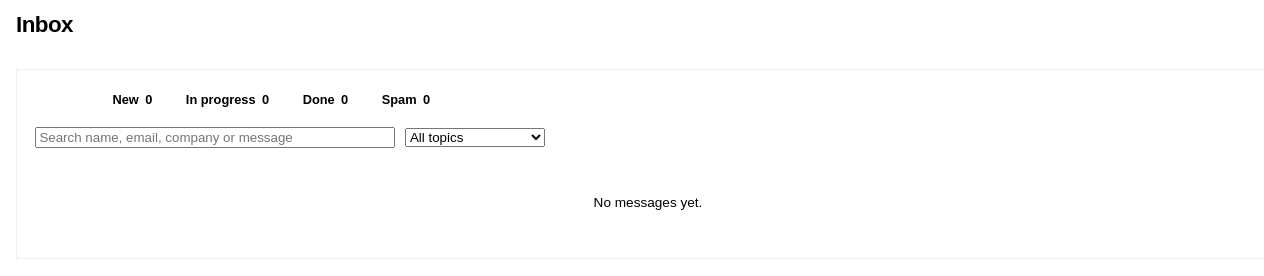
Test: PlatformInboxPage: filters › says so when nothing matches, and when the inbox is empty
Expected: the text "No messages yet." is shown, [594, 194, 702, 210]
Click the button "Spam 0" at (406, 100), box [368, 87, 444, 113]
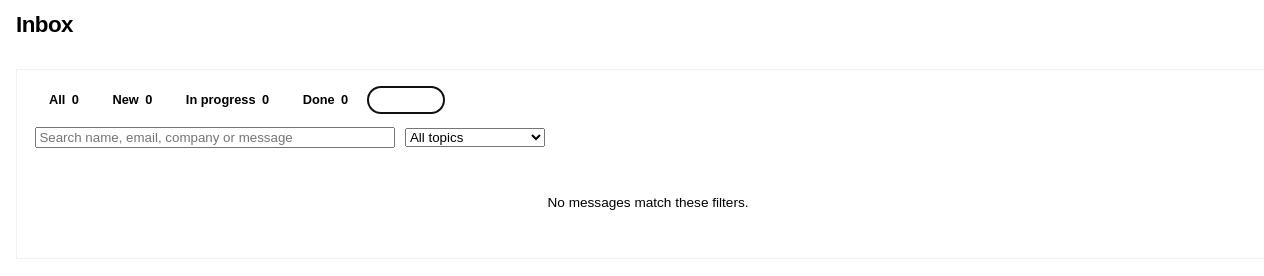
Result: the text "No messages match these filters." is shown at [548, 194, 748, 210]
